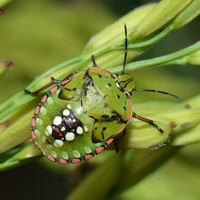insect: (25, 24, 181, 163)
